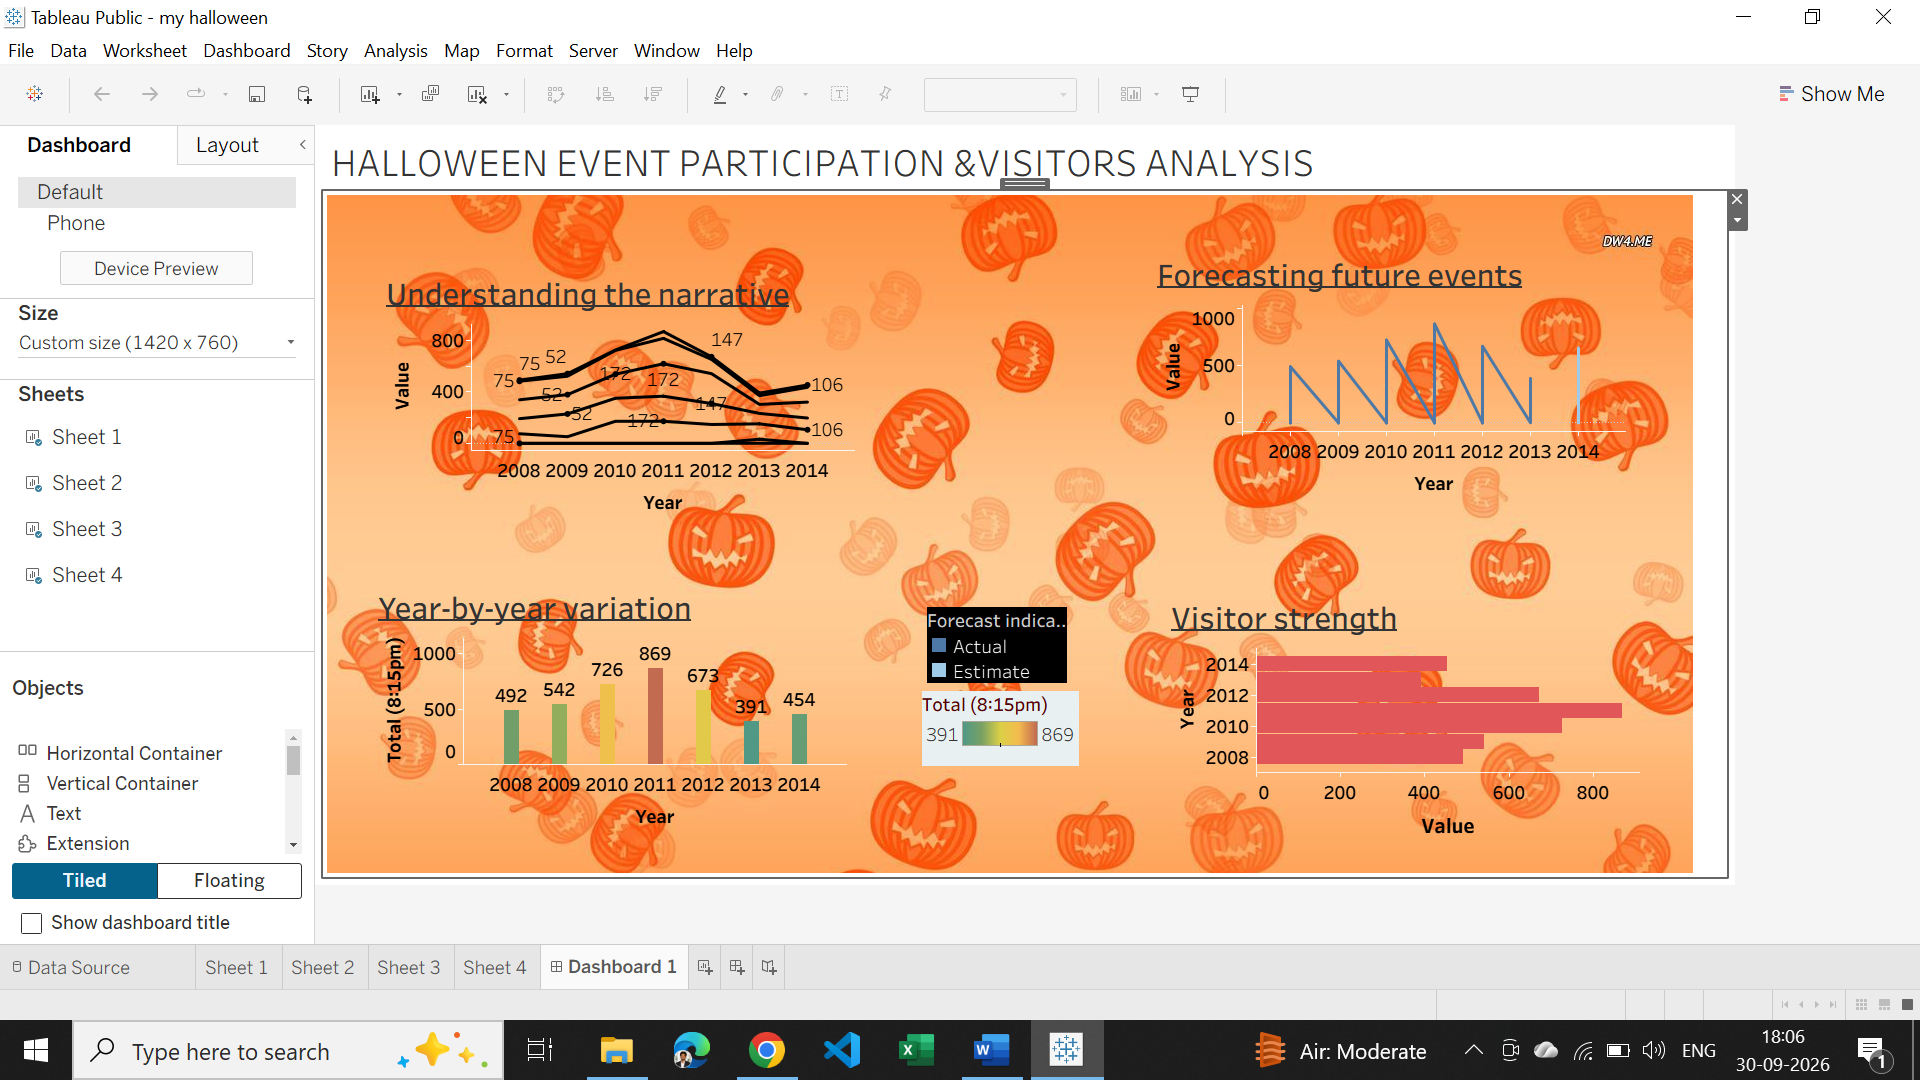

The dashboard page shown, as its layout file describes it:
{"tool":"tableau","page":{"name":"Dashboard 1","canvas":[1420,760],"ordinal":0},"visuals":[{"type":"title","box":[8,8,1404,58]},{"type":"image","param":"C:/Users/HP/Documents/My Tableau Repository/tableau/new.jpg","box":[8,66,1404,686]},{"type":"worksheet","title":"Sheet 2","mark":"Automatic","cols":["Year"],"box":[838,124,473,253]},{"type":"worksheet","title":"Sheet 1","mark":"Automatic","cols":["Year"],"box":[67,143,473,253]},{"type":"worksheet","title":"Sheet 3","mark":"Bar","rows":["15pm)"],"cols":["Year"],"box":[59,457,473,253]},{"type":"worksheet","title":"Sheet 4","mark":"Bar","rows":["Year"],"box":[852,467,473,253]},{"type":"legend","title":"Sheet 2","param":"[federated.08vnc471dqc0un1bc7nl412vayhi].[none:Forecast Indicator:nk]","box":[612,482,140,76]},{"type":"legend","title":"Sheet 3","param":"[federated.08vnc471dqc0un1bc7nl412vayhi].[sum:Total (8:15pm):qk]","box":[607,566,157,75]}]}

Visuals, with their boxes on the page's 1420x760 design canvas (x1, y1, x2, y2). These are canvas units, not pixel positions in the 1920x1080 screenshot, which may show the page scaled, cropped or inside an application window:
title: l=8, t=8, r=1412, b=66
image: l=8, t=66, r=1412, b=752
"Sheet 2" worksheet: l=838, t=124, r=1311, b=377
"Sheet 1" worksheet: l=67, t=143, r=540, b=396
"Sheet 3" worksheet (Bar marks): l=59, t=457, r=532, b=710
"Sheet 4" worksheet (Bar marks): l=852, t=467, r=1325, b=720
"Sheet 2" legend: l=612, t=482, r=752, b=558
"Sheet 3" legend: l=607, t=566, r=764, b=641
